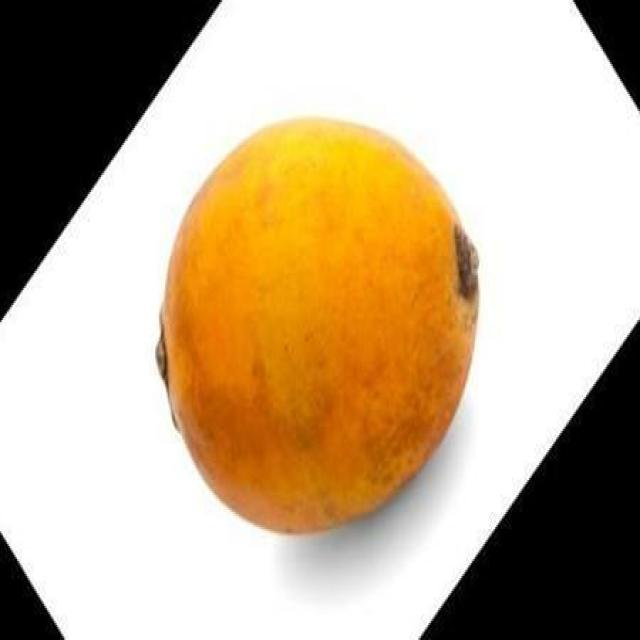good: (159, 115, 482, 538)
